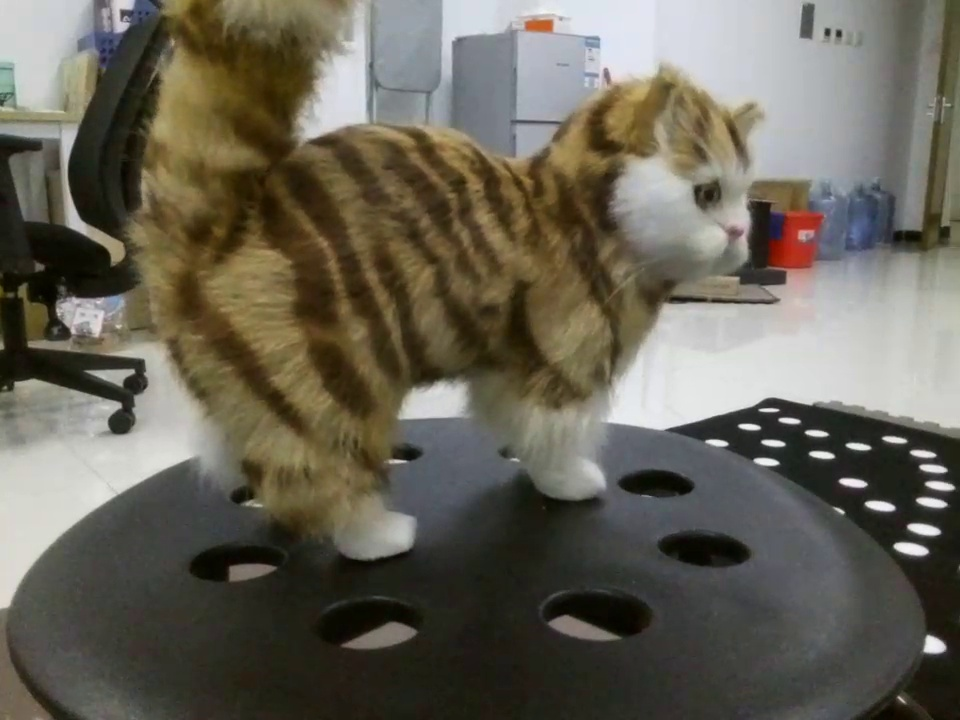cat: (118, 2, 784, 524)
